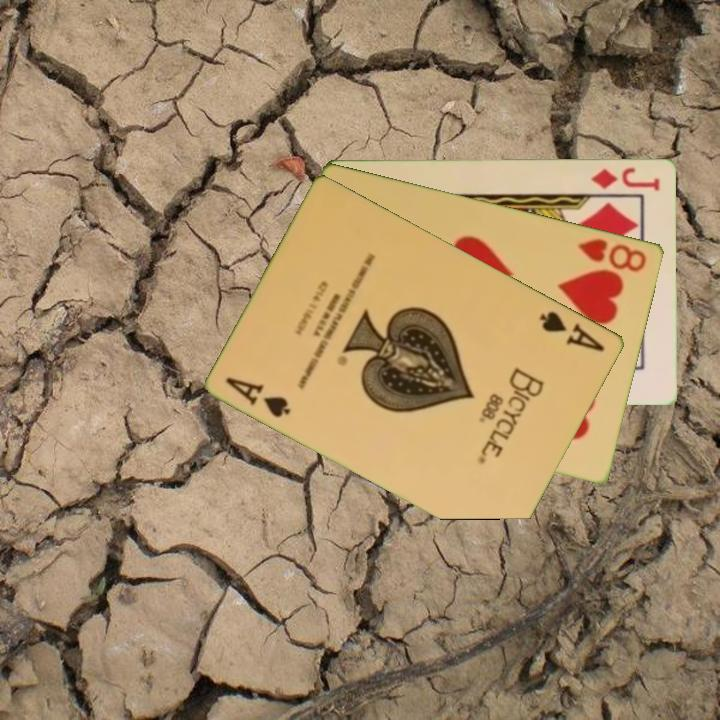8h: (575, 234, 650, 274)
As: (536, 307, 608, 355), (223, 373, 295, 421)
Jd: (588, 164, 663, 193)
